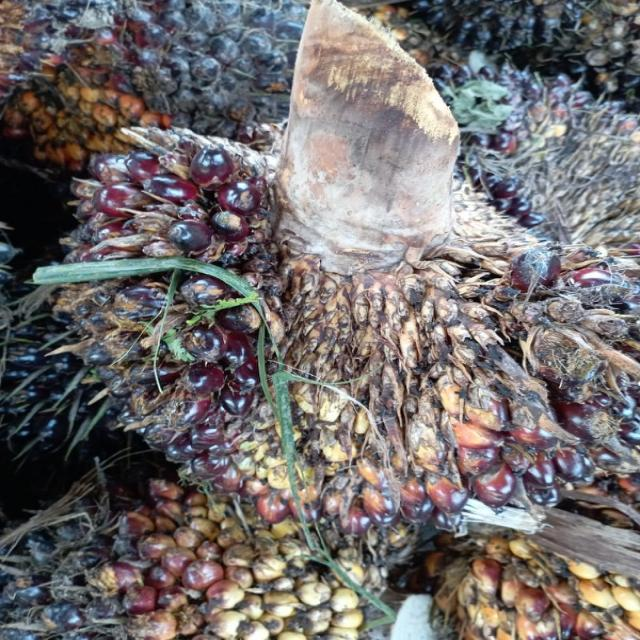fraksi 00: (76, 112, 637, 548)
